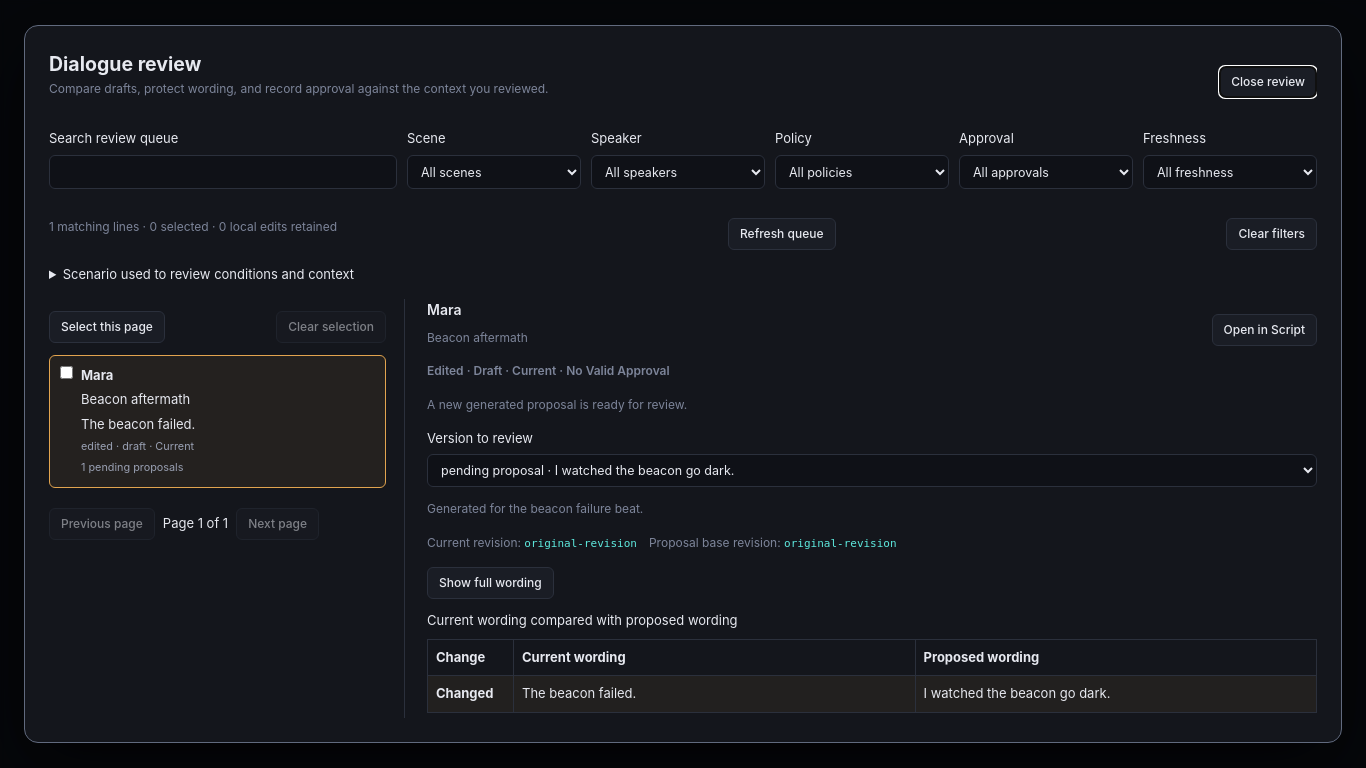
Test: filters a generated variant under an Edited slot as protected Edited content
Select "Edited" in the dropdown labelled "Policy" at (862, 172), box [775,155,949,189]
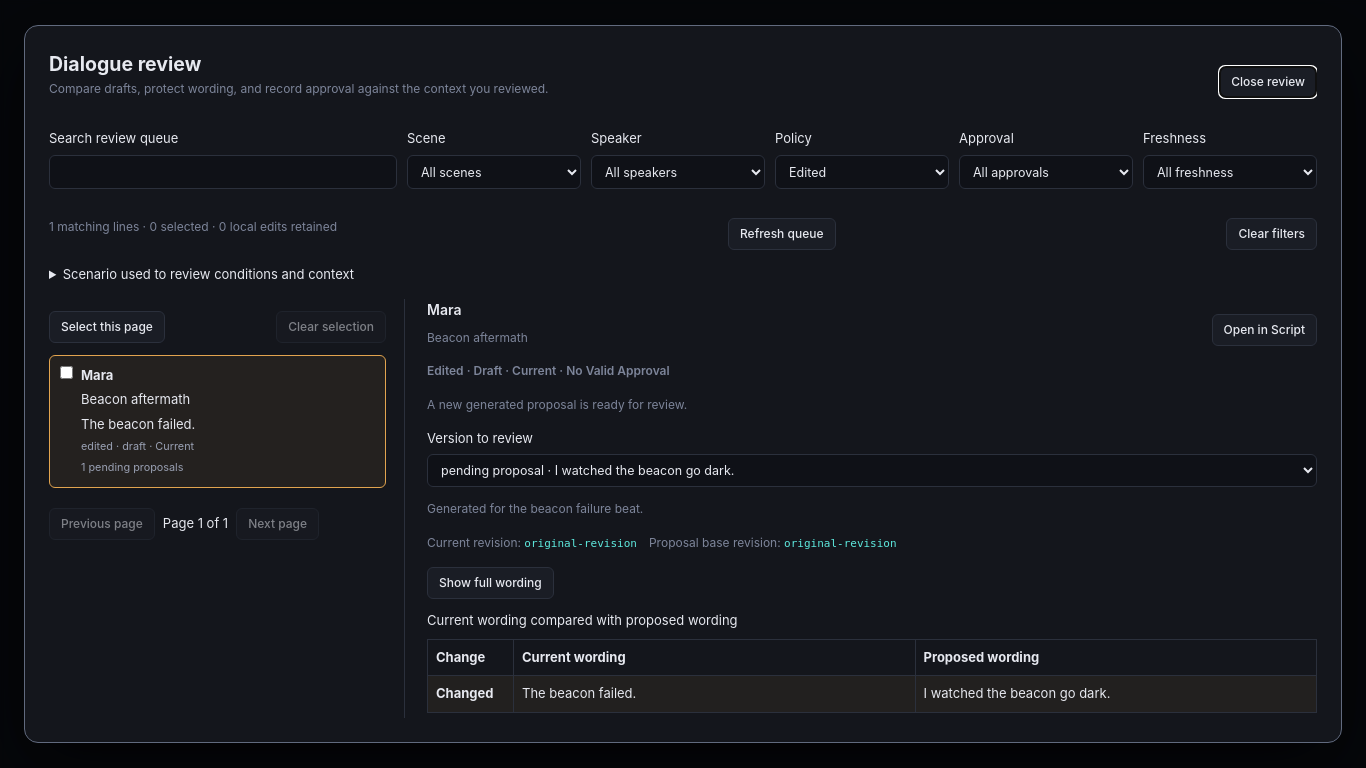
Expected: the number of checkboxes is 1, [60,366,73,379]
Select "Generated" in the dropdown labelled "Policy" at (862, 172), box [775,155,949,189]
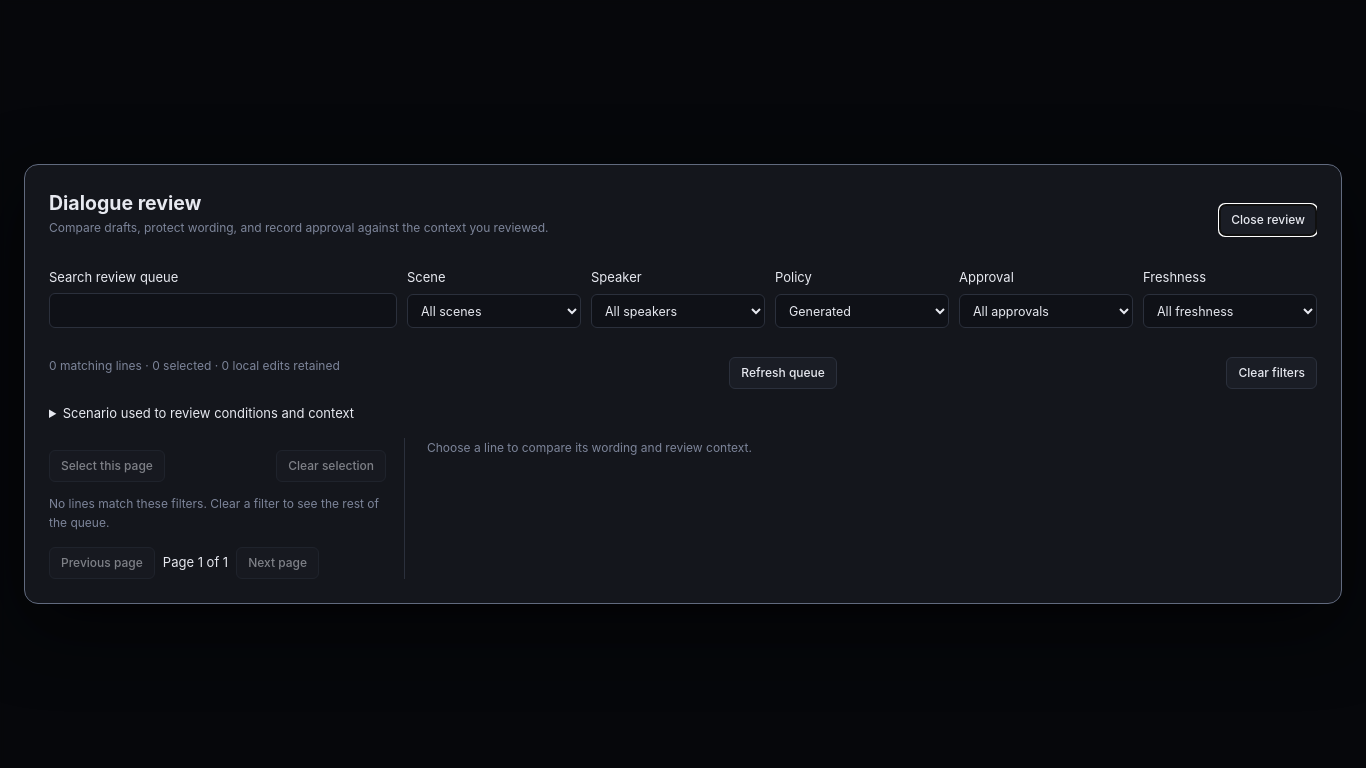
Now no checkboxes are shown
